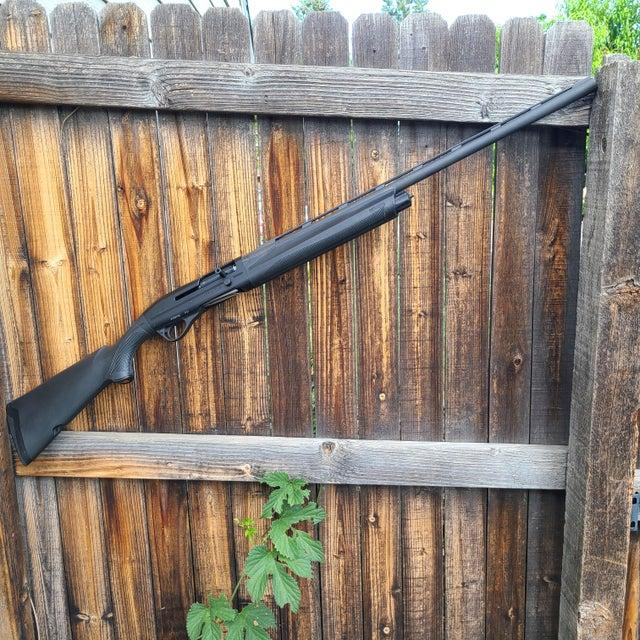ShotGun: (1, 75, 607, 472)
